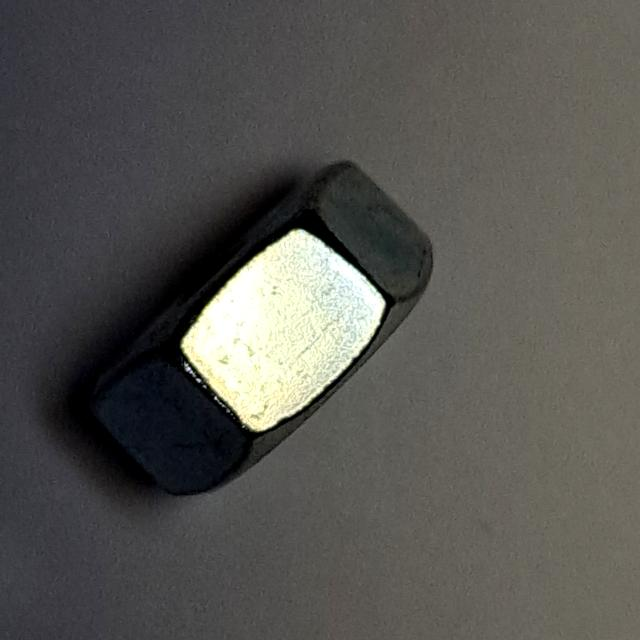Side_Excellent: (64, 143, 447, 519)
